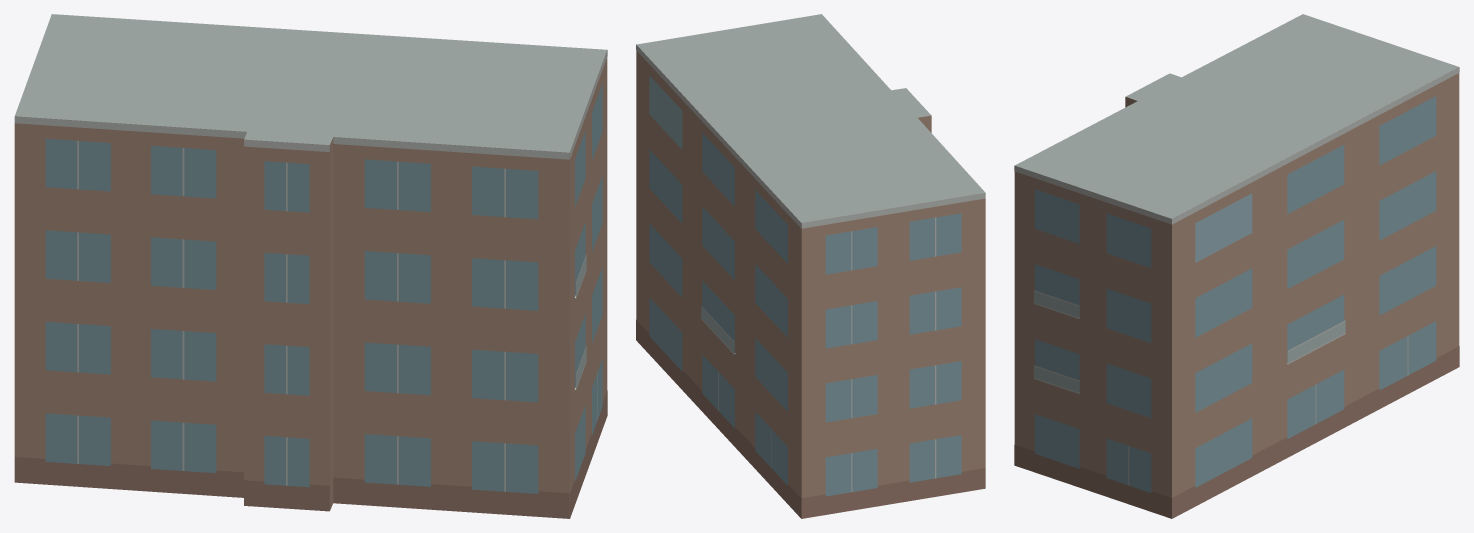
Rendered from survey-upis-32760025.glb.
3 views of the same model, side by side, from view 1: azimuth 30°, elevation 25°; view 2: azimuth 150°, elevation 25°; view 3: azimuth 270°, elevation 25° (orthographic). The views are drawn at different scales.
Parts seen in each view (by area): view 1: survey-upis-32760025.tmp; view 2: survey-upis-32760025.tmp; view 3: survey-upis-32760025.tmp.
Boxes of the visible parts, x1,y1,x2,y2 form: survey-upis-32760025.tmp: (14, 14, 607, 518); survey-upis-32760025.tmp: (636, 14, 985, 518); survey-upis-32760025.tmp: (1014, 14, 1459, 518).
Bounding box in the file's own units: 18.76 × 12.8 × 17.22.
